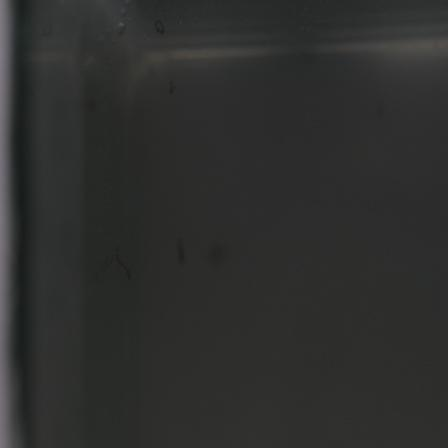Jentik-Nyamuk: (111, 243, 136, 286)
